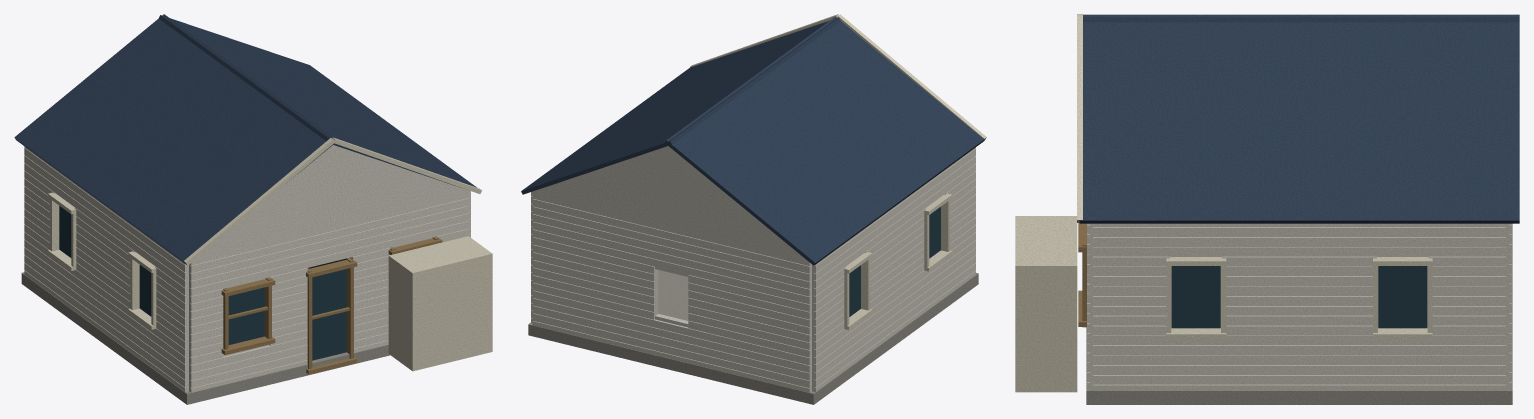
The model's file is SHOPICE2_lod2.glb.
3 views of the same model, side by side, from view 1: azimuth 30°, elevation 25°; view 2: azimuth 150°, elevation 25°; view 3: azimuth 270°, elevation 25° (orthographic). The views are drawn at different scales.
Parts seen in each view (by area): view 1: SHOPICE2_LOD2; view 2: SHOPICE2_LOD2; view 3: SHOPICE2_LOD2.
Boxes of the visible parts, x1,y1,x2,y2 form: SHOPICE2_LOD2: (14,14,492,404); SHOPICE2_LOD2: (521,14,986,404); SHOPICE2_LOD2: (1015,14,1519,404).
Size of the model in its own units: 8.51 by 6.42 by 9.76.
9 materials, 7 textured.
